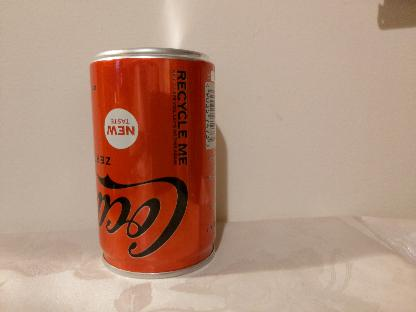Can: (89, 47, 217, 279)
